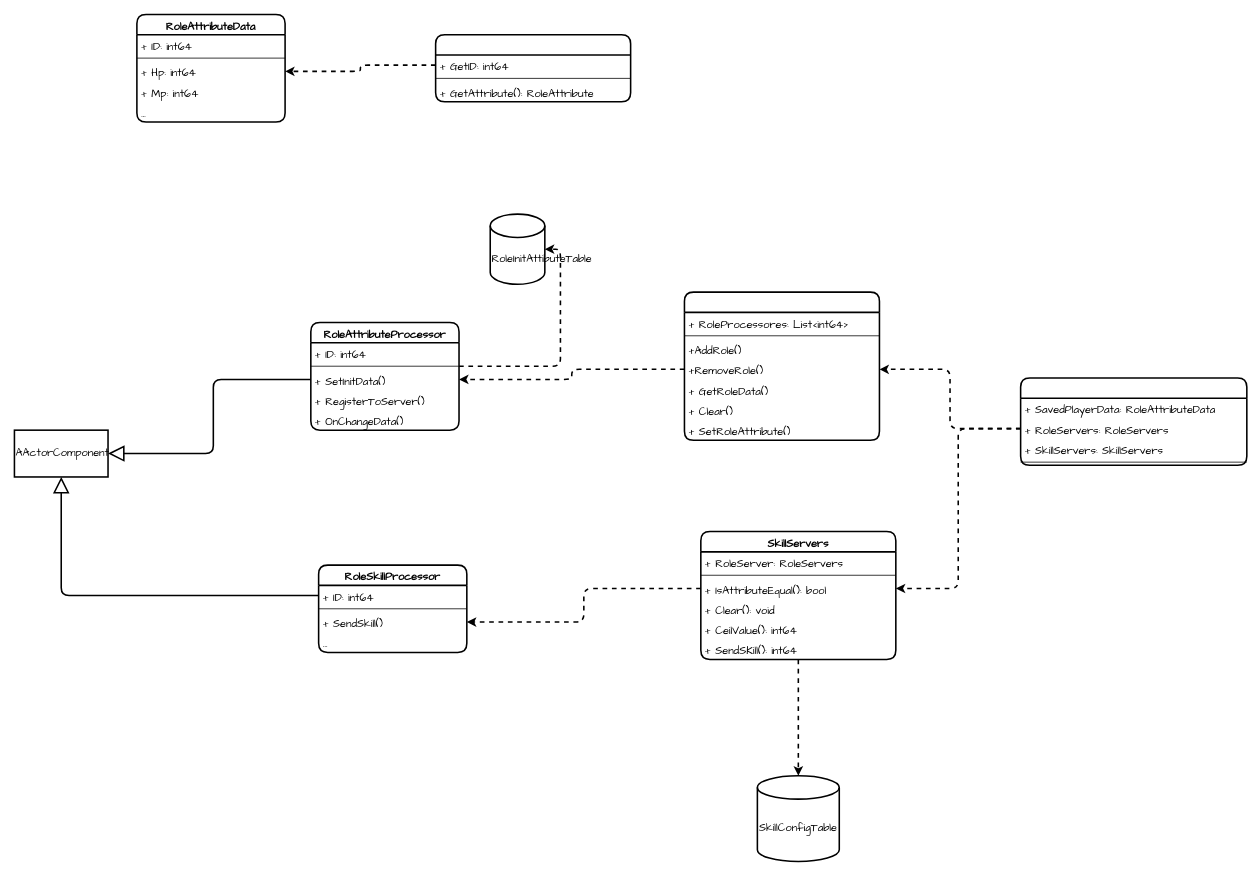
Some shapes in this 1260 by 875 pixel diagram are drawn without their labels. Here are the shapes that lost their labels. From the top down, the box of each, then its label:
(434, 34, 631, 102): IRole
(683, 291, 880, 441): RoleServers
(1019, 377, 1247, 466): SpecialGameInstance
